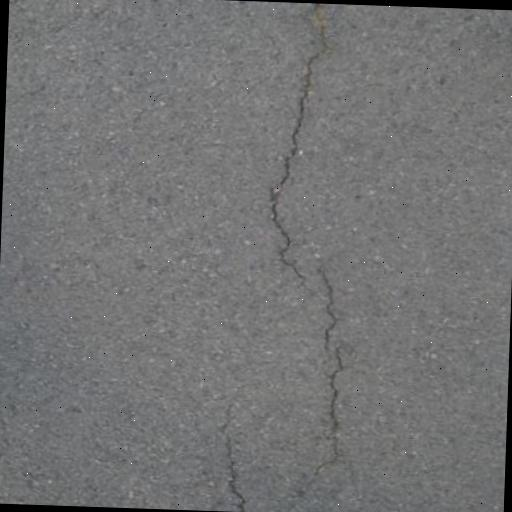spalling: (253, 10, 357, 498), (215, 397, 265, 507)
